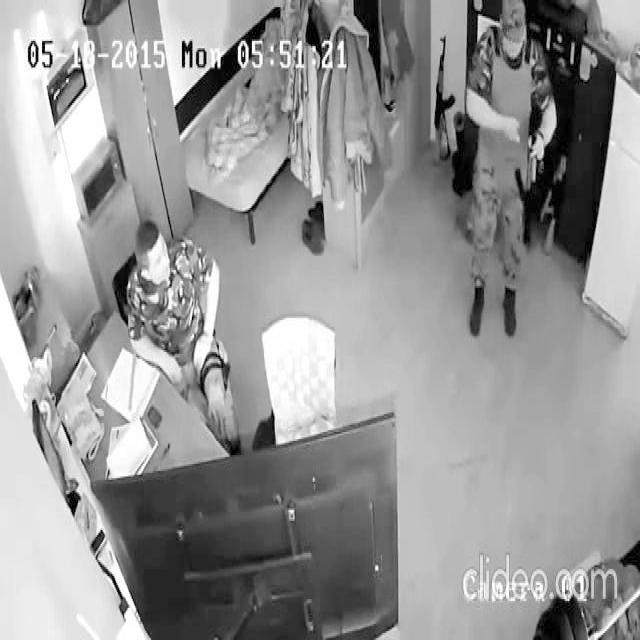gun: (466, 0, 559, 336), (126, 216, 242, 460), (513, 99, 542, 289), (432, 34, 457, 165)
